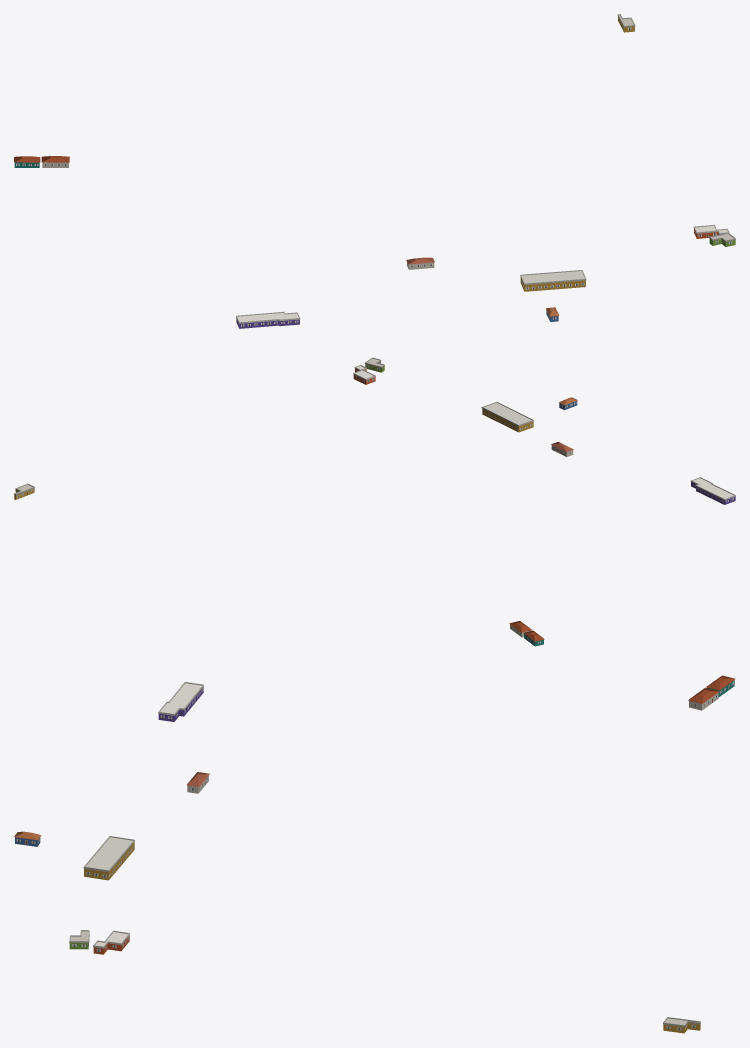
The model's file is msb_sannicolas_20_26.glb.
3 views of the same model, one above another, from view 1: azimuth 30°, elevation 25°; view 2: azimuth 150°, elevation 25°; view 3: azimuth 270°, elevation 25° (orthographic). The views are drawn at different scales.
Parts seen in each view (by area): view 1: msb_sannicolas_20_26_lod0; view 2: msb_sannicolas_20_26_lod0; view 3: msb_sannicolas_20_26_lod0.
Part boxes in pixels (bbox=[...]): msb_sannicolas_20_26_lod0: bbox=[14, 14, 735, 328]; msb_sannicolas_20_26_lod0: bbox=[14, 357, 735, 646]; msb_sannicolas_20_26_lod0: bbox=[14, 675, 735, 1033].
Size of what is drawn, in the model's own units: 381 by 14.22 by 321.
Materials: 3 (1 with a texture image).
